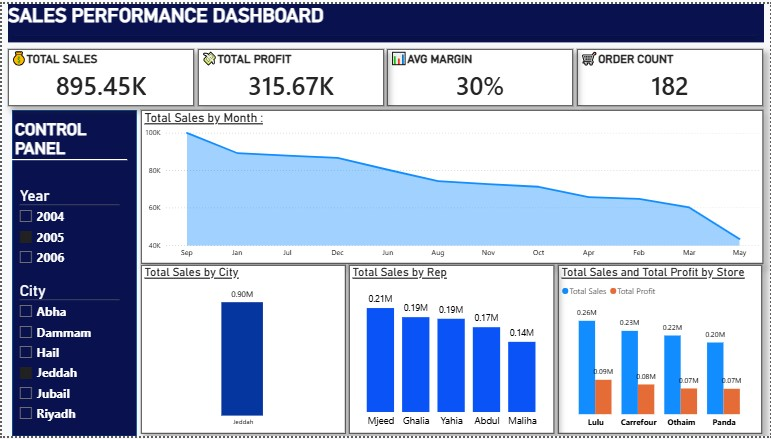

The page's visual inventory and layout, read from the dashboard file:
{"tool":"powerbi","page":{"name":"Page ١","canvas":[1280,720],"ordinal":0},"visuals":[{"type":"shape","box":[16,176,208,544],"z":0},{"type":"shape","title":"SALES PERFORMANCE DASHBOARD","box":[10,0,1260,64],"z":1000},{"type":"cardVisual","title":"💰TOTAL SALES","fields":{"Data":["Sheet1.Total Sales"]},"box":[10,75,310,95],"z":2000},{"type":"cardVisual","title":"🛒ORDER COUNT","fields":{"Data":["Sheet1.Order Count"]},"box":[958,75,310,95],"z":3000},{"type":"cardVisual","title":"📊AVG MARGIN","fields":{"Data":["Sheet1.Avg Profit Margin"]},"box":[642,75,310,95],"z":4000},{"type":"cardVisual","title":"💸TOTAL PROFIT","fields":{"Data":["Sheet1.Total Profit"]},"box":[326,75,310,95],"z":5000},{"type":"lineChart","title":"Total Sales by Month :","fields":{"Category":["Sheet1.Month Name"],"Y":["Sheet1.Total Sales"]},"box":[231,176,1037,256],"z":6000},{"type":"slicer","fields":{"Values":["Sheet1.Year"]},"box":[16,300,192,145],"z":7000},{"type":"slicer","fields":{"Values":["Sheet1.City"]},"box":[16,459,192,249],"z":8000},{"type":"clusteredColumnChart","fields":{"Category":["Sheet1.City"],"Y":["Sheet1.Total Sales"]},"box":[231,435,341,281],"z":9000},{"type":"clusteredColumnChart","fields":{"Y":["Sheet1.Total Sales","Sheet1.Total Profit"],"Category":["Sheet1.Store"]},"box":[927,435,340,281],"z":10000},{"type":"clusteredColumnChart","fields":{"Category":["Sheet1.Rep"],"Y":["Sheet1.Total Sales"]},"box":[578,435,342,281],"z":11000},{"type":"actionButton","title":"CONTROL PANEL ","box":[21,191,210,97],"z":12000},{"type":"shape","box":[16,244,192,32],"z":13000}]}

Visuals, with their boxes in screenshot pixels (x1, y1, x2, y2), scaled from the page's 1280x720 canvas onto the 771x439 screenshot:
shape: <bbox>10, 107, 135, 438</bbox>
"SALES PERFORMANCE DASHBOARD" shape: <bbox>6, 0, 765, 39</bbox>
"💰TOTAL SALES" cardVisual: <bbox>6, 46, 193, 104</bbox>
"🛒ORDER COUNT" cardVisual: <bbox>577, 46, 764, 104</bbox>
"📊AVG MARGIN" cardVisual: <bbox>387, 46, 573, 104</bbox>
"💸TOTAL PROFIT" cardVisual: <bbox>196, 46, 383, 104</bbox>
"Total Sales by Month :" lineChart: <bbox>139, 107, 764, 263</bbox>
slicer - Sheet1.Year: <bbox>10, 183, 125, 271</bbox>
slicer - Sheet1.City: <bbox>10, 280, 125, 432</bbox>
clusteredColumnChart - Sheet1.City x Sheet1.Total Sales: <bbox>139, 265, 345, 437</bbox>
clusteredColumnChart - Sheet1.Total Sales x Sheet1.Total Profit: <bbox>558, 265, 763, 437</bbox>
clusteredColumnChart - Sheet1.Rep x Sheet1.Total Sales: <bbox>348, 265, 554, 437</bbox>
"CONTROL PANEL " actionButton: <bbox>13, 116, 139, 176</bbox>
shape: <bbox>10, 149, 125, 168</bbox>
